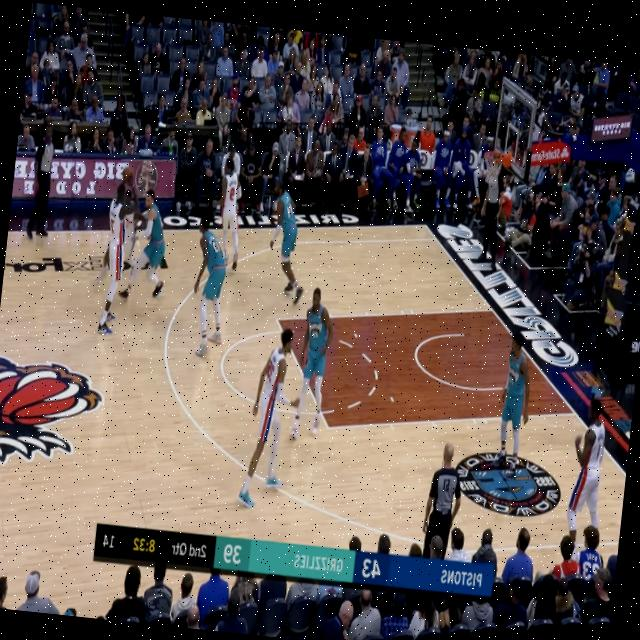no foul: (228, 267, 353, 518), (90, 168, 178, 334)
